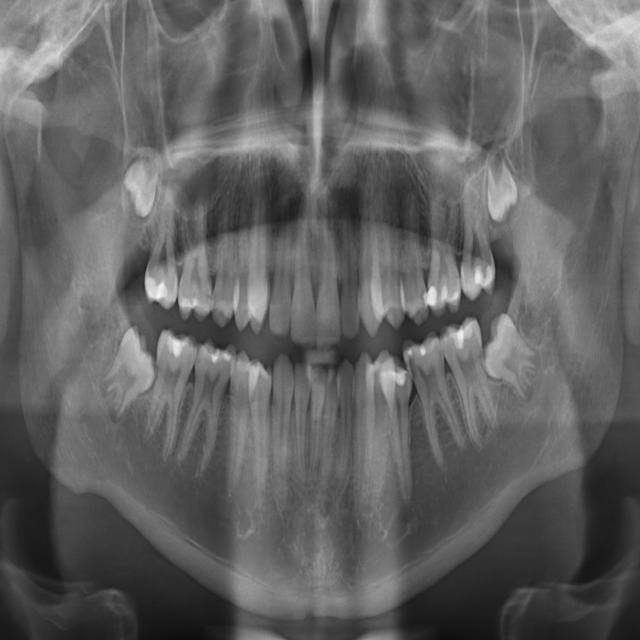CompositeResinRestoration: (450, 316, 474, 354), (474, 258, 495, 291), (146, 261, 162, 300), (170, 335, 187, 363), (442, 284, 460, 308), (392, 368, 408, 394), (182, 292, 202, 311), (424, 284, 437, 312), (222, 349, 234, 375), (418, 341, 428, 362), (406, 346, 414, 362)
DentalCaries: (408, 355, 420, 386), (203, 277, 213, 311), (194, 344, 202, 384), (415, 282, 435, 296), (449, 262, 460, 286)
